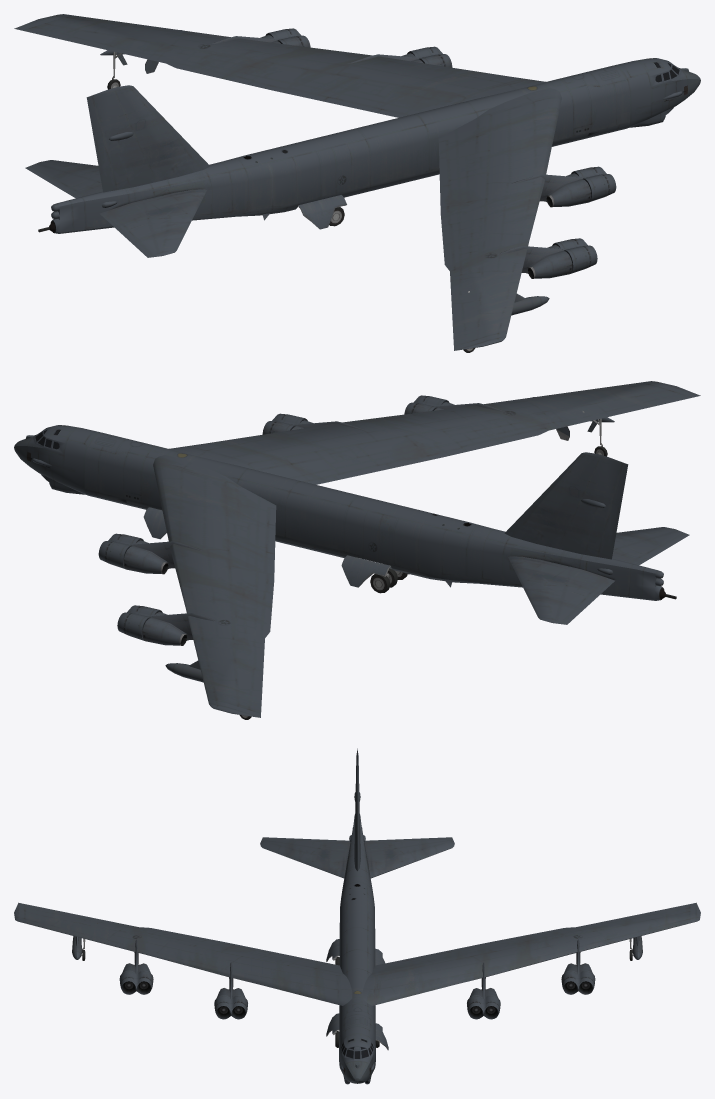
File: b52h-CPU-ver2021-11-27.obj
3 renders of one model, top to bottom at view 1: azimuth 30°, elevation 25°; view 2: azimuth 150°, elevation 25°; view 3: azimuth 270°, elevation 25°, orthographic. The views are drawn at different scales.
Visible parts, largest first — view 1: b52-airframe, b52-landingOn; view 2: b52-airframe, b52-landingOn; view 3: b52-airframe, b52-landingOn.
Part boxes in pixels (x1,y1,x2,y2): b52-airframe: [14, 14, 700, 350]; b52-landingOn: [107, 51, 475, 352]; b52-airframe: [14, 381, 700, 717]; b52-landingOn: [143, 411, 607, 719]; b52-airframe: [14, 748, 700, 1084]; b52-landingOn: [81, 923, 633, 1050].
Bounding box in the file's own units: 494 × 128 × 577.
